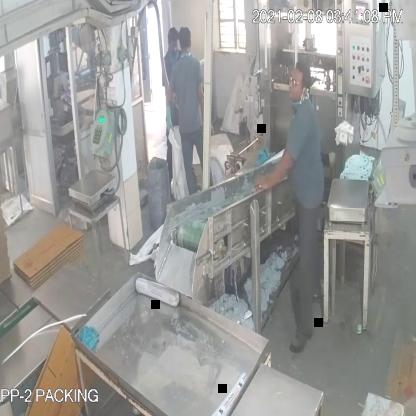no_glove: (255, 144, 296, 197)
